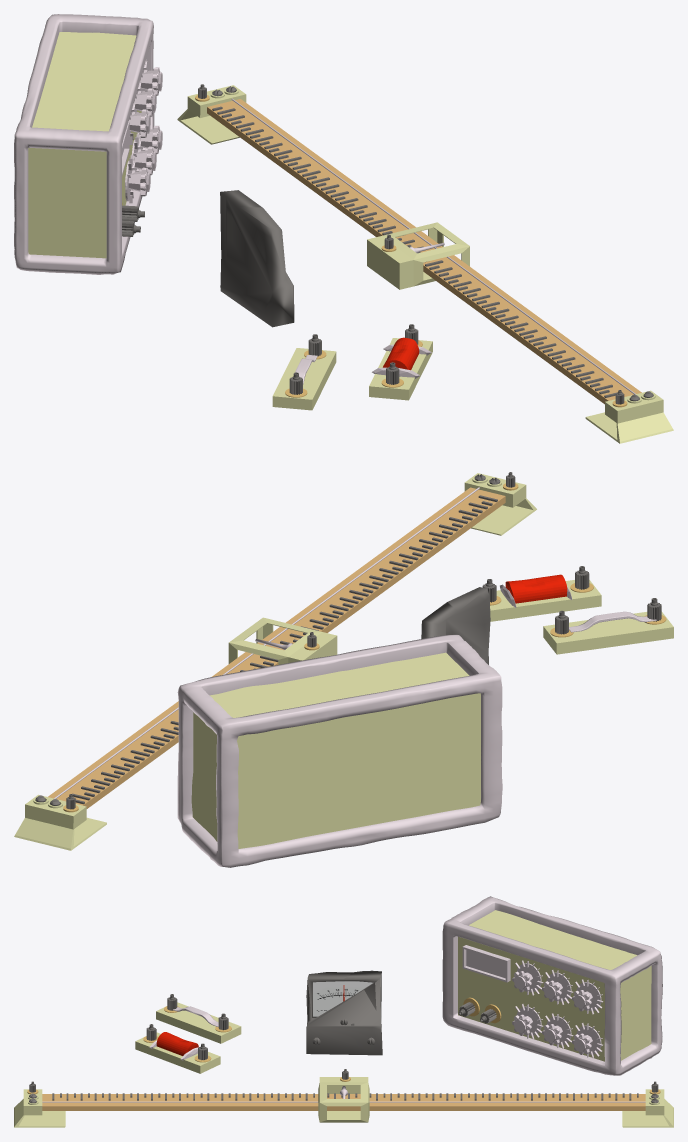
File: ustanovka 1.fbx
3 views of the same model, one above another, from view 1: azimuth 30°, elevation 25°; view 2: azimuth 150°, elevation 25°; view 3: azimuth 270°, elevation 25° (orthographic). The views are drawn at different scales.
Parts seen in each view (by area): view 1: Магазин_емкостей_тело.003, Магазин_емкостей_тело.002, Реохорд.001, Cube.007, Cylinder.018, Cube.009, Cube.008, Cube.010, Cube.013, Cylinder.017, Cylinder.025, Cylinder.010 (+1 smaller); view 2: Магазин_емкостей_тело.003, Магазин_емкостей_тело.002, Реохорд.001, Cylinder.018, Cube.009, Cube.010, Cube.007, Cube.008, Cube.013, Cylinder.025, Cylinder.017, Cylinder.021 (+2 smaller); view 3: Магазин_емкостей_тело.002, Магазин_емкостей_тело.003, Реохорд.001, Cube.007, Cylinder.018, Cube.008, Cube.010, Cube.009, Plane.001, Cube.006, Cylinder.017, Cube.013 (+9 smaller).
Boxes of the visible parts, x1,y1,x2,y2 form: Магазин_емкостей_тело.003: (28, 32, 141, 258); Магазин_емкостей_тело.002: (14, 14, 154, 274); Реохорд.001: (207, 99, 641, 404); Cube.007: (220, 190, 294, 327); Cylinder.018: (177, 84, 673, 443); Cube.009: (212, 106, 622, 397); Cube.008: (367, 222, 469, 289); Cube.010: (272, 348, 336, 410); Cube.013: (369, 338, 432, 400); Cylinder.017: (231, 98, 635, 394); Cylinder.025: (383, 337, 419, 370); Cylinder.010: (125, 155, 150, 203); Магазин_емкостей_тело.003: (191, 652, 480, 848); Магазин_емкостей_тело.002: (177, 634, 502, 867); Реохорд.001: (48, 487, 505, 808); Cylinder.018: (14, 472, 536, 850); Cube.009: (72, 495, 497, 804); Cube.010: (543, 611, 673, 654); Cube.007: (421, 587, 490, 664); Cube.008: (228, 617, 337, 664); Cube.013: (490, 580, 601, 621); Cylinder.025: (505, 574, 567, 603); Cylinder.017: (54, 487, 479, 798); Cylinder.021: (550, 598, 666, 637); Магазин_емкостей_тело.002: (442, 896, 662, 1075); Магазин_емкостей_тело.003: (458, 910, 651, 1061); Реохорд.001: (42, 1094, 645, 1110); Cube.007: (306, 970, 382, 1055); Cylinder.018: (14, 1081, 673, 1127); Cube.008: (318, 1077, 369, 1122); Cube.010: (156, 1002, 241, 1043); Cube.009: (52, 1093, 638, 1100); Plane.001: (313, 981, 372, 1016); Cube.006: (462, 945, 510, 982); Cylinder.017: (42, 1101, 645, 1102); Cube.013: (135, 1032, 220, 1073).
Size of the model in its own units: 11.36 by 4.62 by 25.38.
7 materials, 1 textured.
